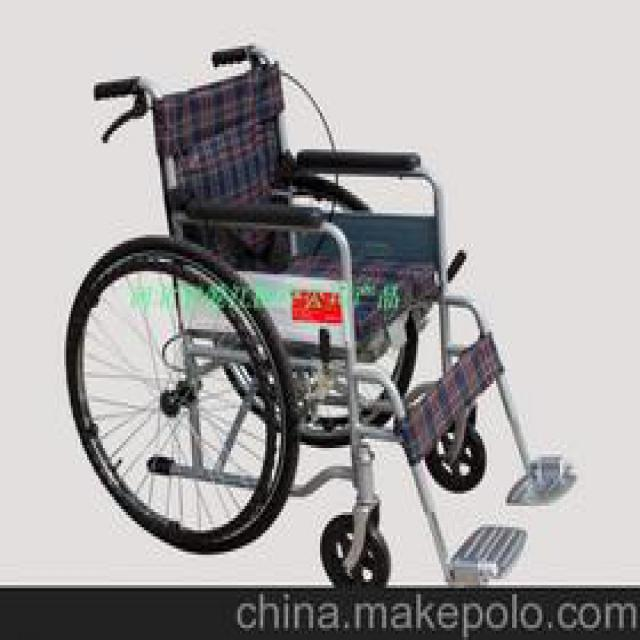wheelchairs: (61, 52, 574, 582)
